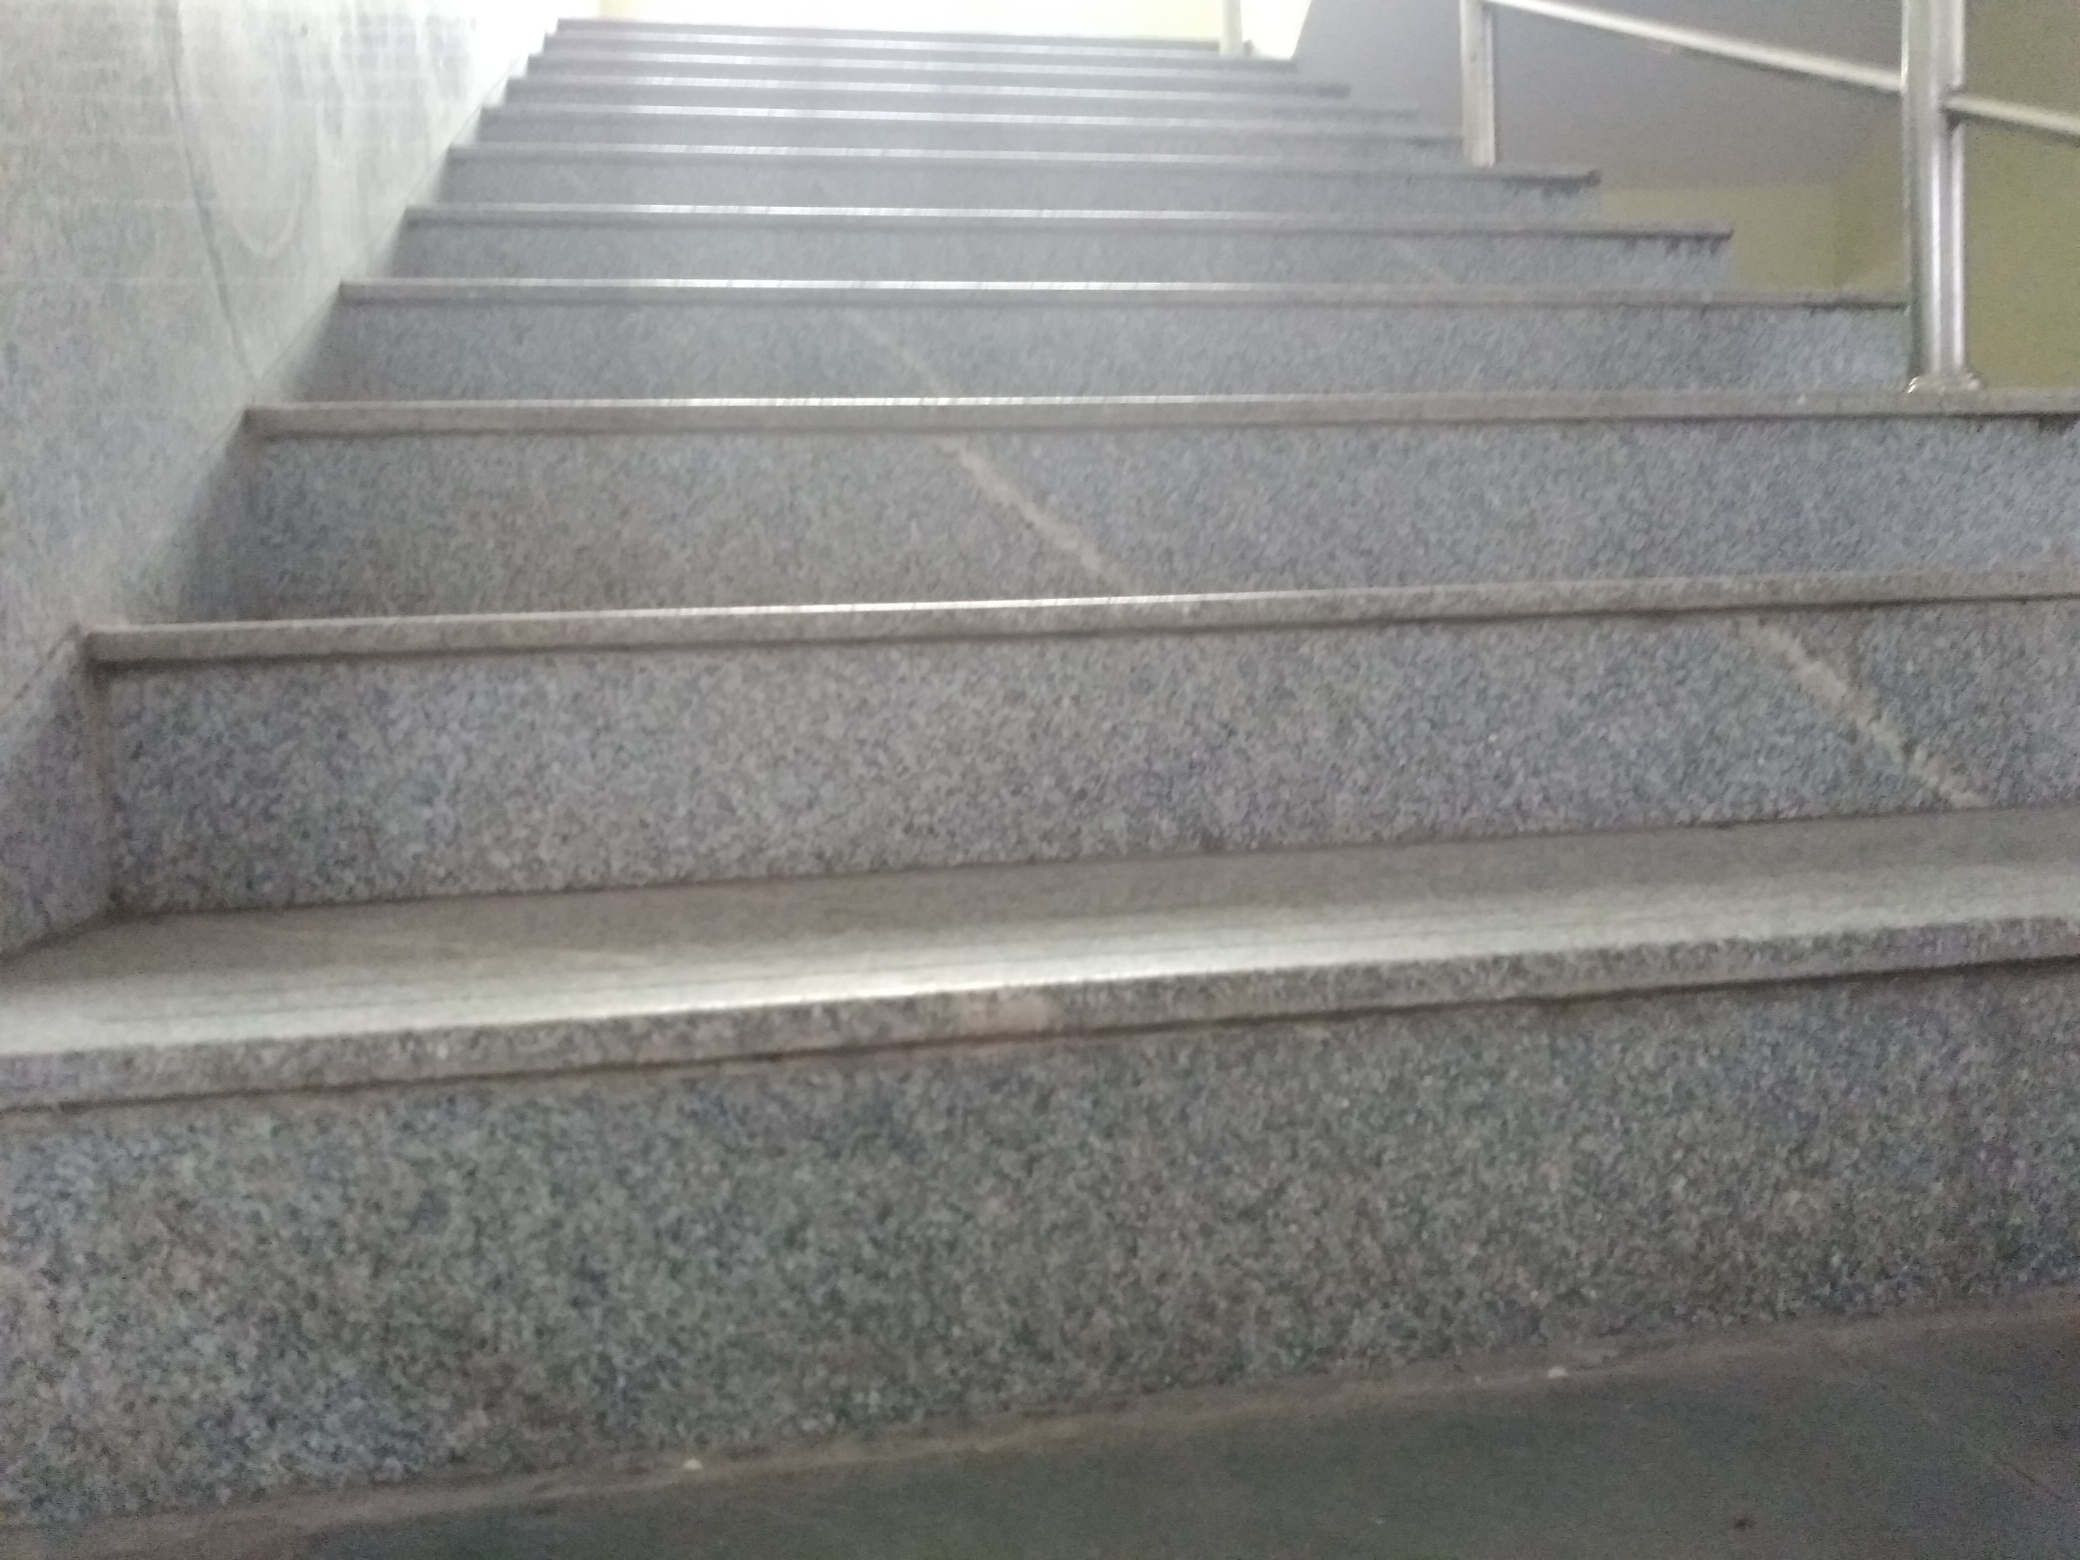stairs_up: (115, 87, 2039, 1383)
